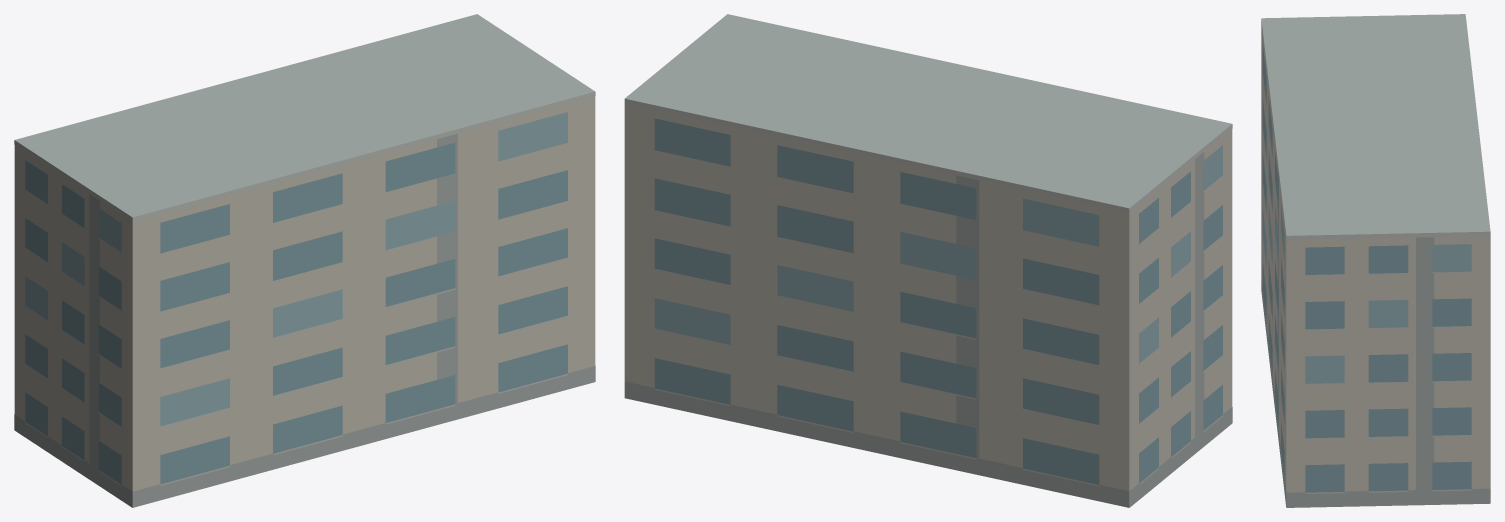
File: residential-1286b491-9572-4bdb-8bee-f6c721b051d6.glb
3 views of the same model, side by side, from view 1: azimuth 30°, elevation 25°; view 2: azimuth 150°, elevation 25°; view 3: azimuth 270°, elevation 25° (orthographic). The views are drawn at different scales.
Visible parts, largest first — view 1: residential-1286b491-9572-4bdb-8bee-f6c721b051d6.tmp; view 2: residential-1286b491-9572-4bdb-8bee-f6c721b051d6.tmp; view 3: residential-1286b491-9572-4bdb-8bee-f6c721b051d6.tmp.
Part boxes in pixels (x1,y1,x2,y2): residential-1286b491-9572-4bdb-8bee-f6c721b051d6.tmp: [14, 14, 595, 507]; residential-1286b491-9572-4bdb-8bee-f6c721b051d6.tmp: [624, 14, 1232, 507]; residential-1286b491-9572-4bdb-8bee-f6c721b051d6.tmp: [1261, 14, 1490, 507].
Size of the model in its own units: 26.68 by 15.25 by 11.66.
